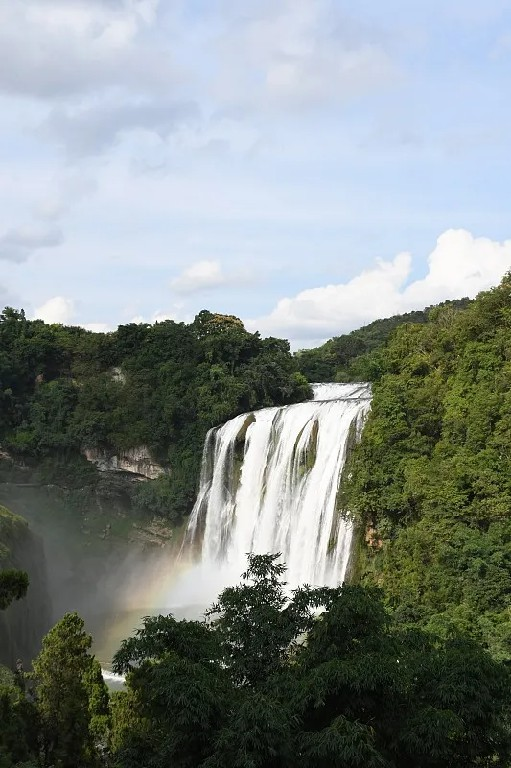Huangguoshu: (178, 384, 373, 581)
